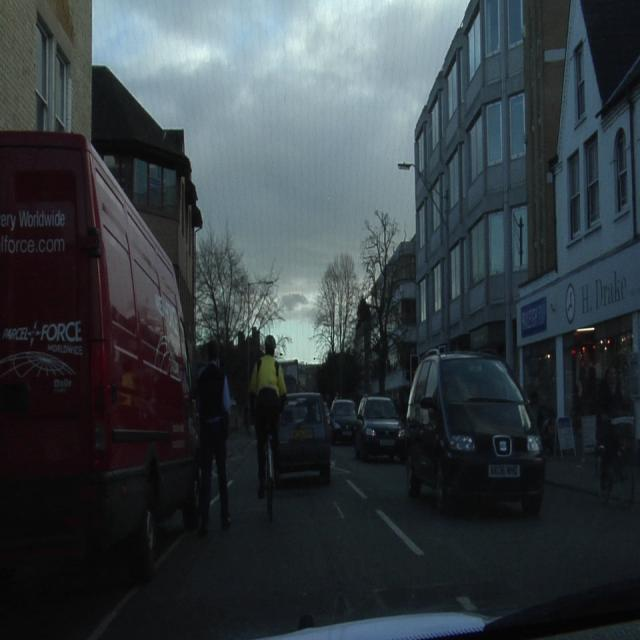Building: (416, 0, 636, 452), (2, 2, 92, 131)
Car: (407, 353, 544, 511), (276, 394, 331, 483), (356, 396, 402, 458), (331, 400, 355, 441)
Road: (0, 444, 639, 634)
Tree: (196, 227, 282, 345), (360, 210, 415, 394), (314, 253, 361, 396), (363, 212, 399, 283)
Truck_Bus: (0, 132, 199, 573)
person: (194, 343, 230, 533)
